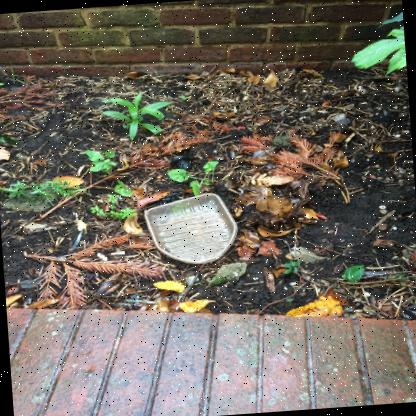Disposable food container: (144, 193, 237, 264)
Other plastic bottle: (170, 155, 192, 171), (156, 195, 182, 207)
Plastic film: (69, 229, 84, 252), (125, 299, 159, 304)
